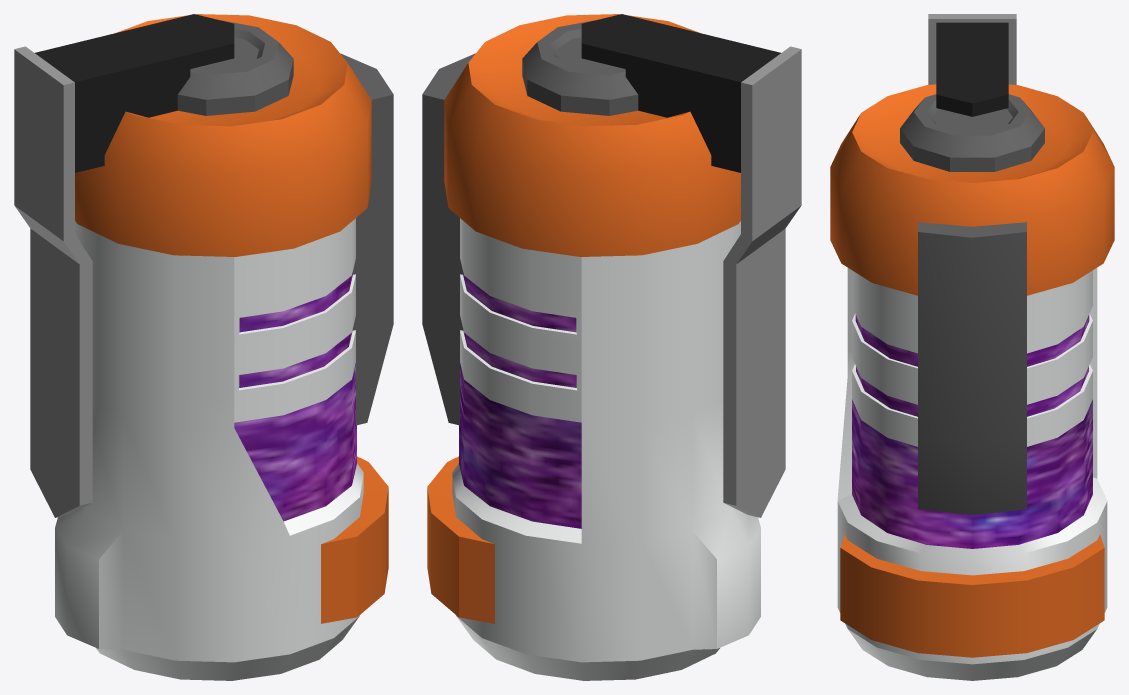
The model's file is bomb ho den.fbx.
3 renders of one model, left to right at view 1: azimuth 30°, elevation 25°; view 2: azimuth 150°, elevation 25°; view 3: azimuth 270°, elevation 25°, orthographic. The views are drawn at different scales.
Parts seen in each view (by area): view 1: Grenade; view 2: Grenade; view 3: Grenade.
Boxes of the visible parts, bbox=[...] form: Grenade: bbox=[14, 14, 393, 680]; Grenade: bbox=[422, 14, 801, 680]; Grenade: bbox=[830, 14, 1114, 680].
Bounding box in the file's own units: 2.16 × 3.68 × 1.75.
1 material, 1 textured.
